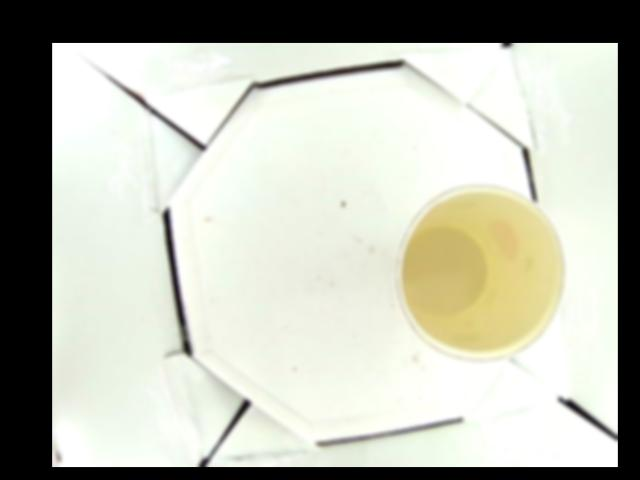Cup: (395, 184, 567, 358)
